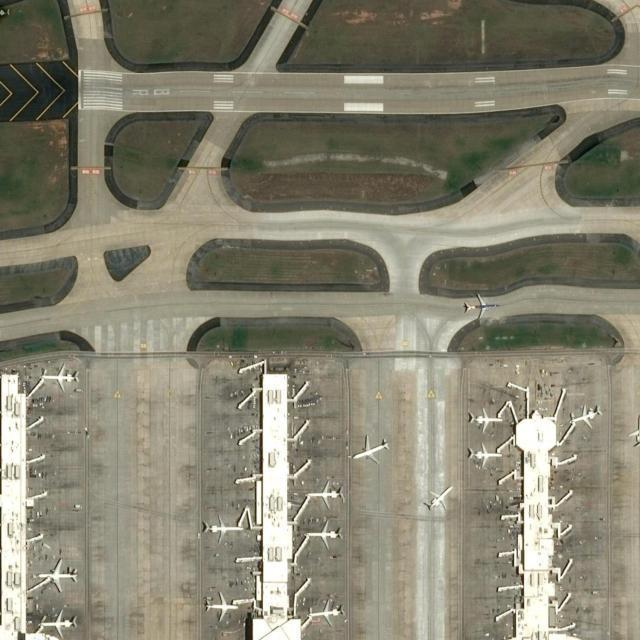Aircraft: (36, 555, 78, 592), (199, 513, 244, 544), (303, 518, 343, 552), (38, 362, 80, 394), (36, 607, 78, 639), (305, 477, 347, 509), (305, 598, 347, 628), (203, 588, 239, 622), (350, 433, 389, 464), (466, 404, 502, 432), (465, 441, 501, 469), (568, 402, 602, 429), (423, 482, 453, 512)
